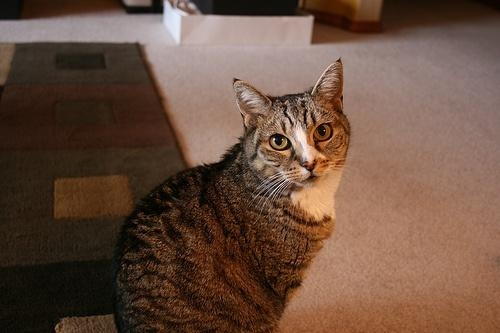cat: (119, 61, 351, 330)
